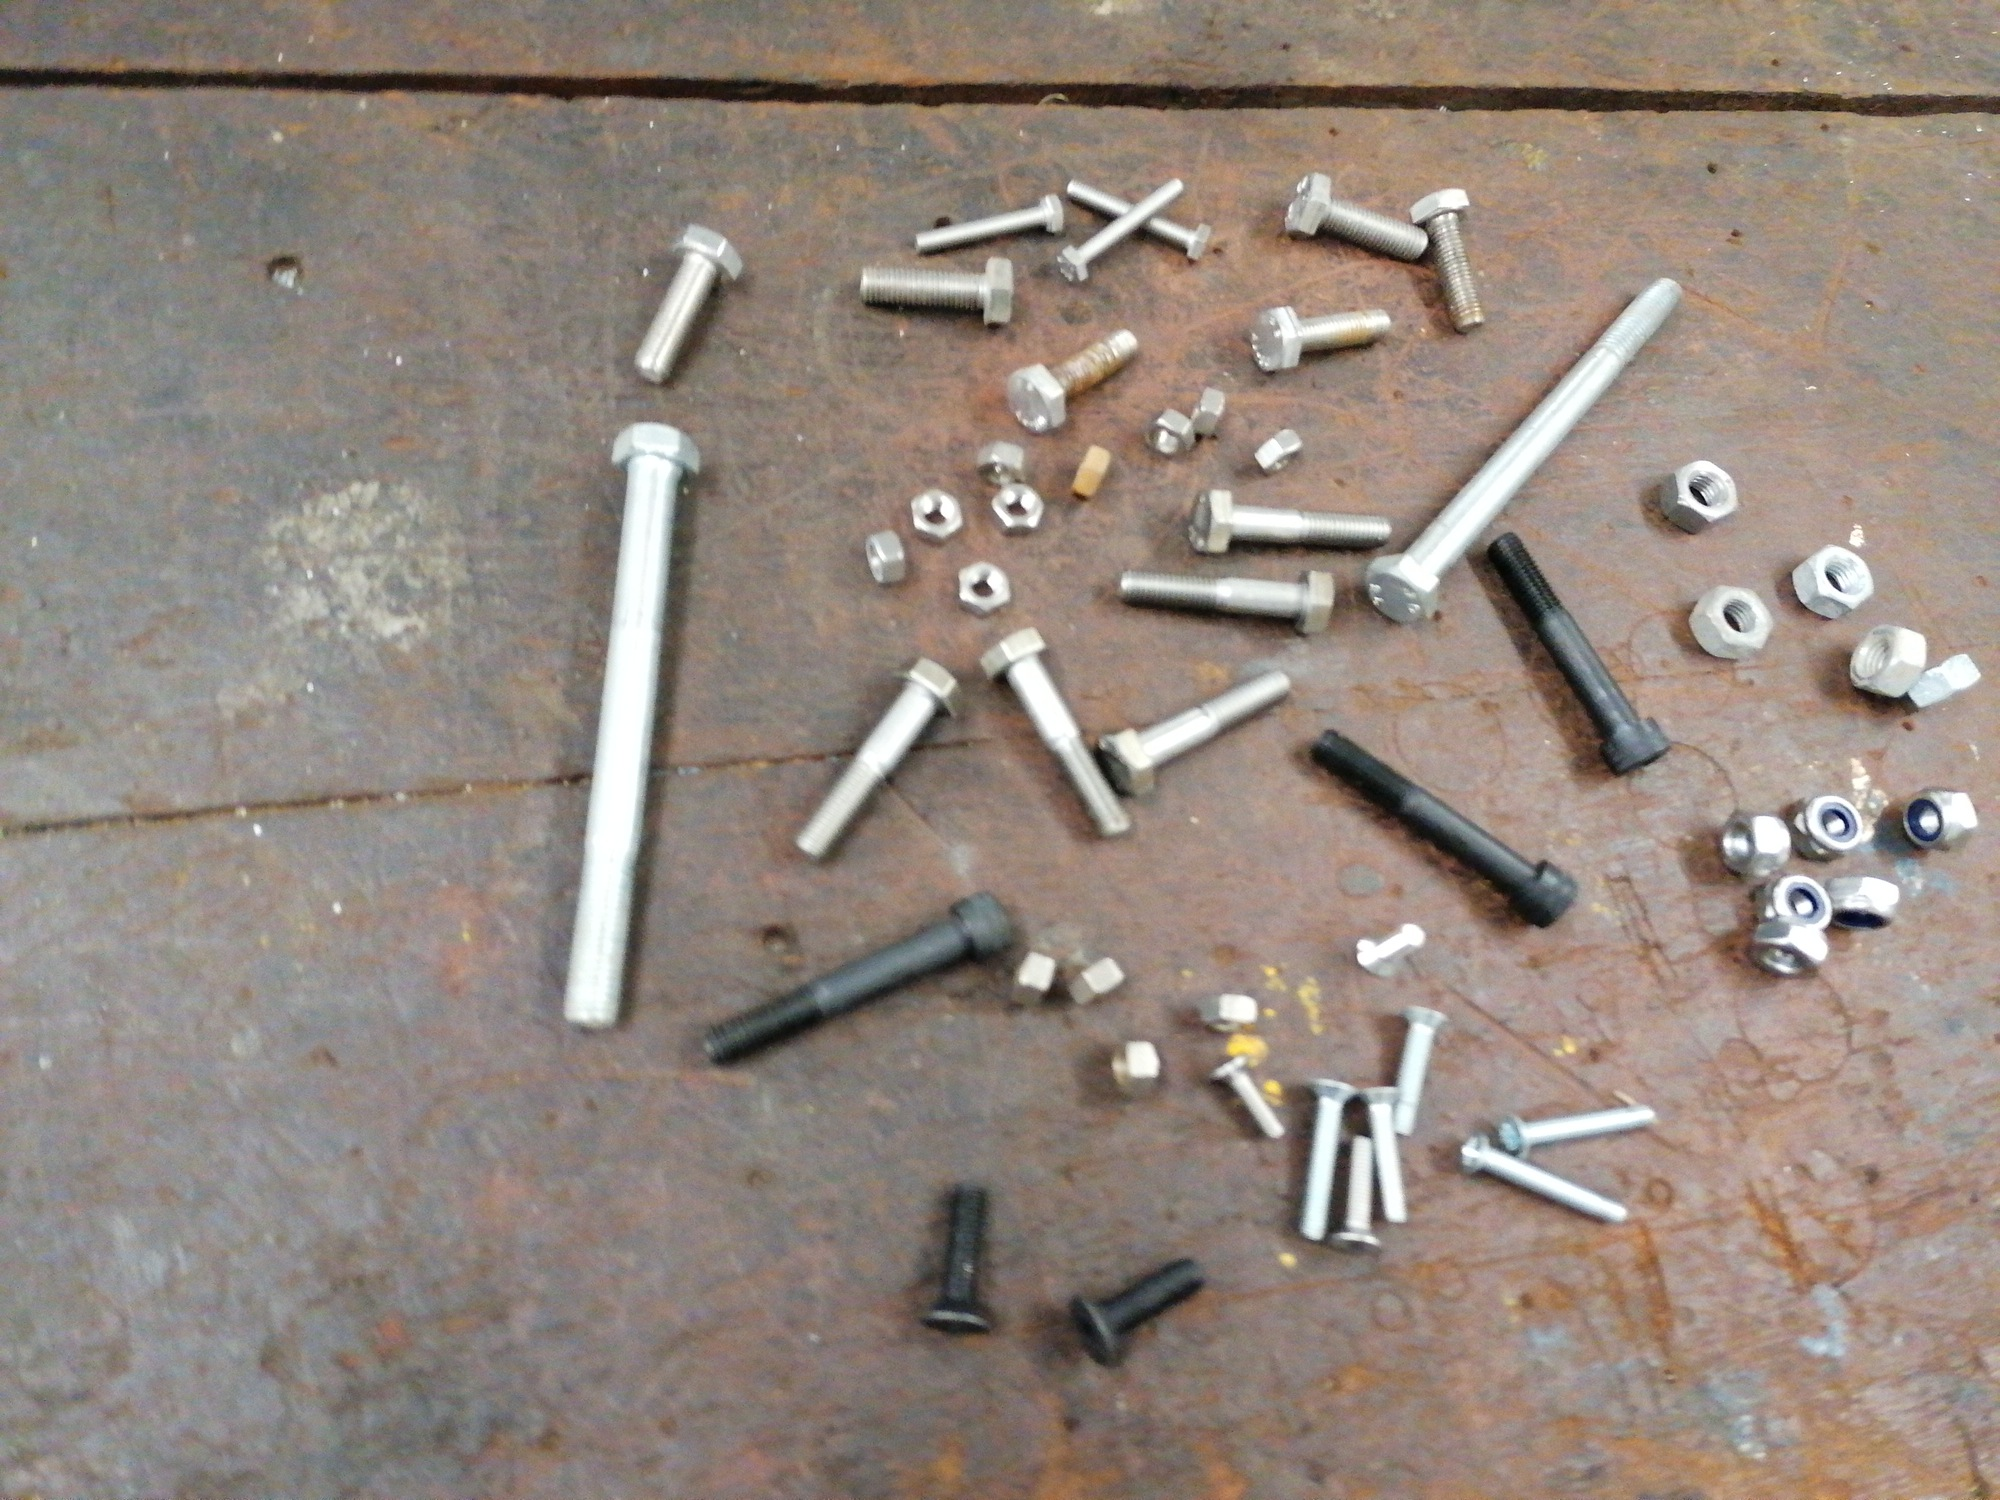bolt: (1364, 276, 1683, 624), (561, 421, 701, 1032), (699, 890, 1014, 1068), (1309, 726, 1580, 930), (1483, 529, 1672, 778), (792, 655, 965, 865), (980, 627, 1132, 838), (1094, 668, 1291, 797), (631, 221, 743, 384), (1457, 1131, 1628, 1224), (1117, 567, 1337, 638), (1069, 1257, 1206, 1368), (1187, 487, 1392, 558), (1005, 328, 1139, 435), (1057, 176, 1184, 285), (1282, 170, 1428, 262), (1065, 176, 1213, 263), (920, 1183, 995, 1338), (858, 255, 1014, 329), (1408, 187, 1485, 334), (1296, 1078, 1359, 1242), (910, 192, 1065, 257), (1247, 306, 1394, 373), (1494, 1103, 1657, 1160), (1391, 1005, 1450, 1138), (1357, 1086, 1408, 1224), (1206, 1054, 1287, 1139), (1328, 1134, 1383, 1256), (1354, 922, 1427, 978)
nut: (1687, 583, 1773, 659), (1791, 544, 1876, 619), (1658, 457, 1739, 534), (1849, 622, 1929, 700), (1891, 652, 1983, 714), (1787, 791, 1865, 863), (1717, 810, 1791, 881), (1899, 786, 1980, 851), (1748, 919, 1830, 978), (1754, 871, 1833, 930), (1825, 874, 1901, 931), (954, 559, 1013, 619), (906, 487, 965, 544), (984, 482, 1046, 536), (1109, 1035, 1161, 1098), (1065, 953, 1124, 1005), (1197, 989, 1261, 1037), (1009, 947, 1058, 1008), (861, 526, 909, 586), (1145, 407, 1197, 459), (973, 440, 1031, 485), (1068, 443, 1113, 501), (1254, 427, 1302, 476), (1191, 384, 1225, 436)
